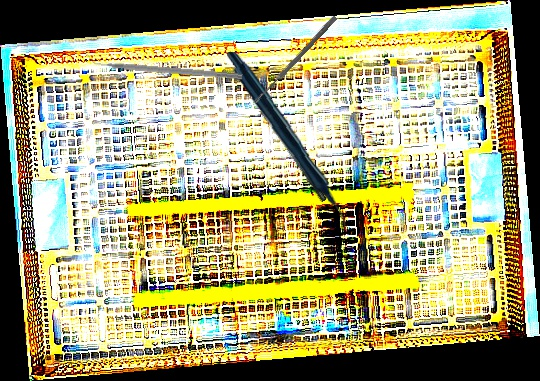Chopper: (84, 51, 244, 80)
Handpiece: (220, 51, 353, 232)
Spatula Surgical: (228, 71, 329, 210)
Surgical Spoon: (252, 14, 338, 106)
